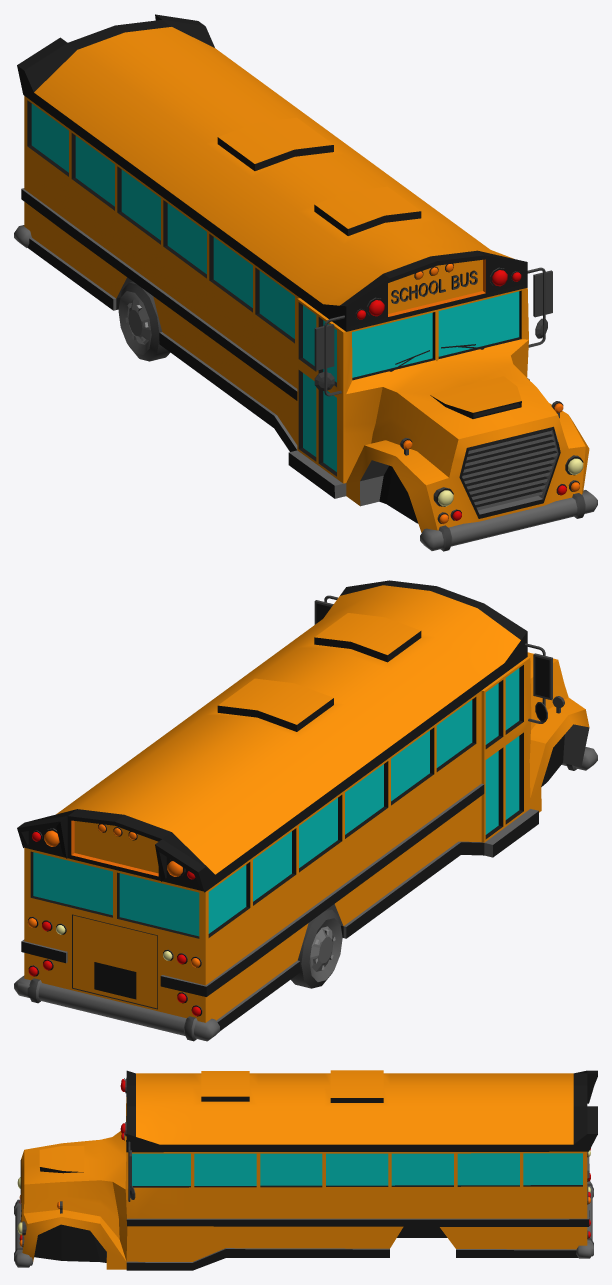
The model's file is School Bus.fbx.
3 views of the same model, one above another, from view 1: azimuth 30°, elevation 25°; view 2: azimuth 150°, elevation 25°; view 3: azimuth 270°, elevation 25° (orthographic). The views are drawn at different scales.
Visible parts, largest first — view 1: Main Bus, Wheel; view 2: Main Bus, Wheel; view 3: Main Bus.
Boxes of the visible parts, x1,y1,x2,y2 form: Main Bus: (14, 14, 597, 551); Wheel: (118, 281, 170, 361); Main Bus: (14, 580, 597, 1041); Wheel: (291, 908, 342, 988); Main Bus: (14, 1070, 597, 1270).
Size of the model in its own units: 20.91 by 19.73 by 62.38.
